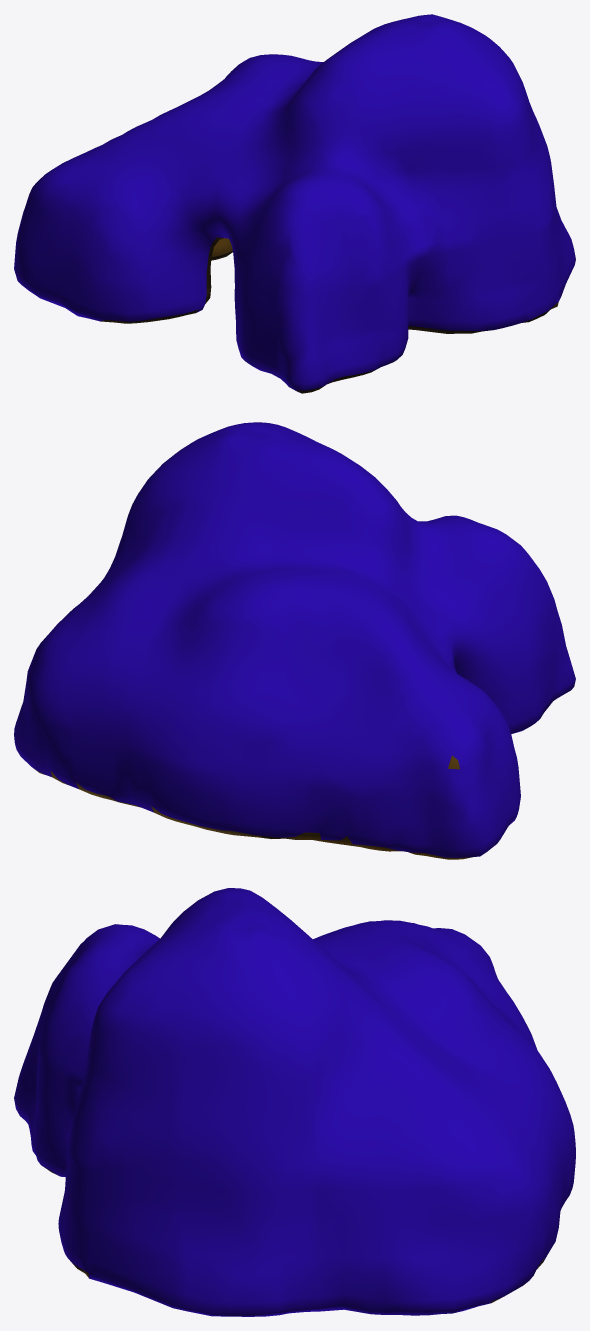
Rendered from Aquatic_Cave_Final.fbx.
3 views of the same model, one above another, from view 1: azimuth 30°, elevation 25°; view 2: azimuth 150°, elevation 25°; view 3: azimuth 270°, elevation 25° (orthographic). The views are drawn at different scales.
Visible parts, largest first — view 1: Cave; view 2: Cave; view 3: Cave.
Boxes of the visible parts, x1,y1,x2,y2 form: Cave: [14, 14, 575, 393]; Cave: [14, 422, 575, 859]; Cave: [14, 888, 575, 1316].
Size of the model in its own units: 34028 by 18481 by 29730.
Materials: 2 (1 with a texture image).
